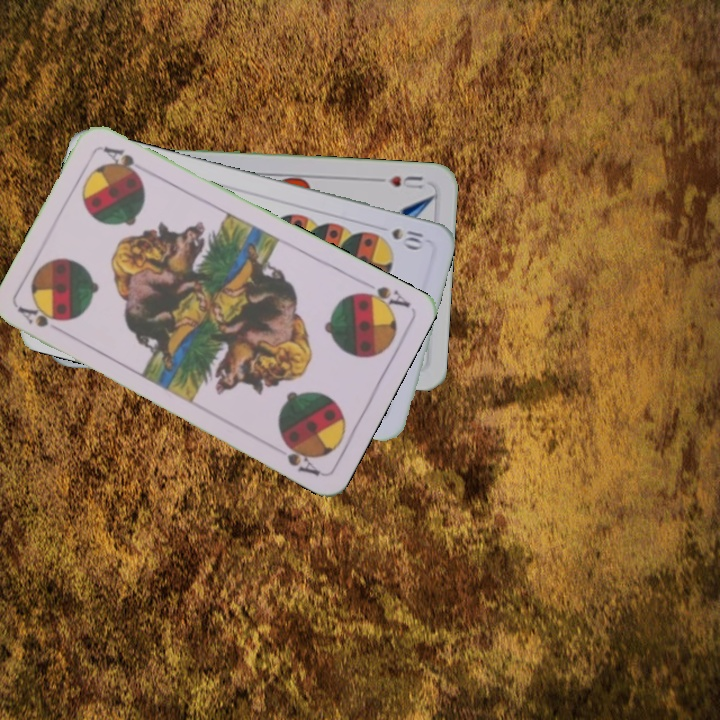HU: (385, 171, 427, 192)
S10: (387, 224, 426, 251)
SA: (352, 282, 413, 315), (14, 302, 70, 337)
